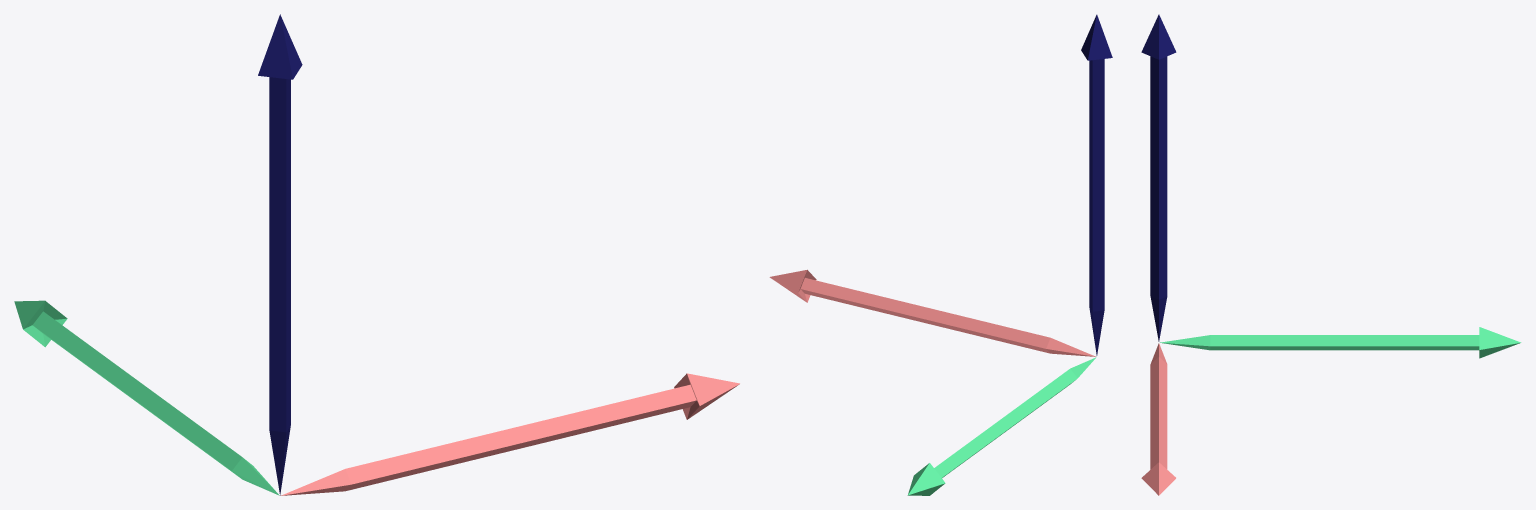
The model's file is Dummy Gizmo.fbx.
3 views of the same model, side by side, from view 1: azimuth 30°, elevation 25°; view 2: azimuth 150°, elevation 25°; view 3: azimuth 270°, elevation 25° (orthographic). The views are drawn at different scales.
Parts seen in each view (by area): view 1: Cylinder002, Cylinder001, Cylinder003; view 2: Cylinder001, Cylinder002, Cylinder003; view 3: Cylinder001, Cylinder003, Cylinder002.
Part boxes in pixels (<box>): Cylinder002: <box>281,373,739,495</box>; Cylinder001: <box>258,14,302,495</box>; Cylinder003: <box>14,300,279,495</box>; Cylinder001: <box>1081,14,1112,355</box>; Cylinder002: <box>769,269,1095,356</box>; Cylinder003: <box>907,357,1096,495</box>; Cylinder001: <box>1141,14,1176,341</box>; Cylinder003: <box>1160,327,1520,358</box>; Cylinder002: <box>1141,343,1175,495</box>.
Bounding box in the file's own units: 41.66 × 41.66 × 41.66.
